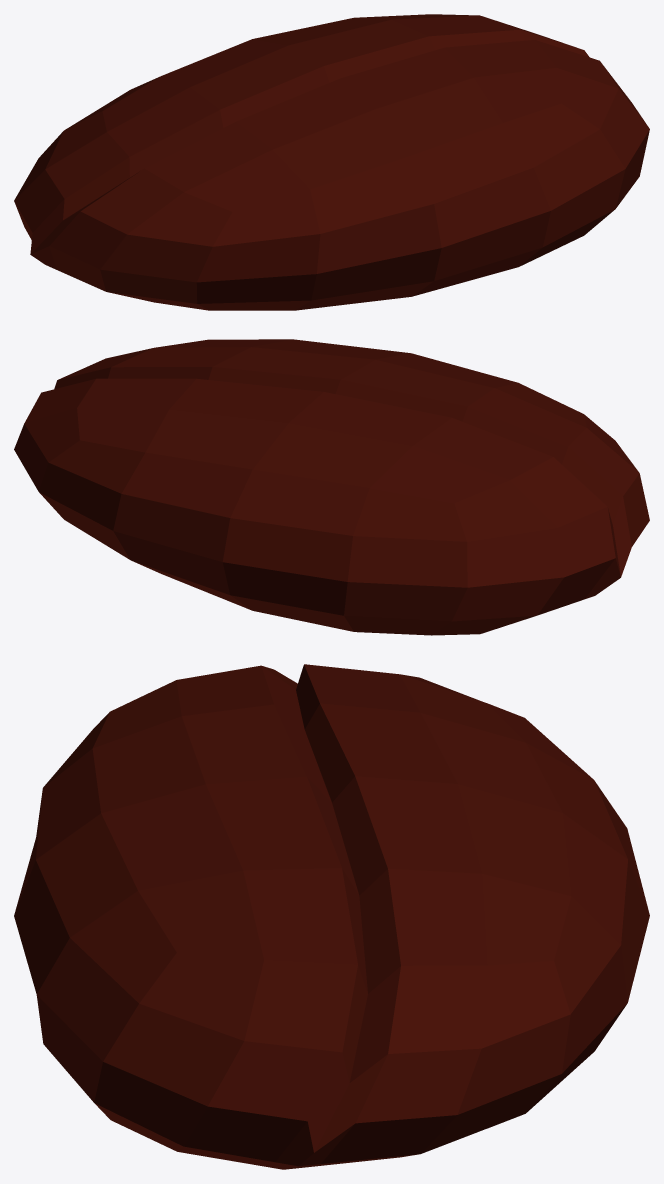
The model's file is CofeeBean.fbx.
The picture shows the model from 3 angles, top to bottom: view 1: azimuth 30°, elevation 25°; view 2: azimuth 150°, elevation 25°; view 3: azimuth 270°, elevation 25°; orthographic projection. The views are drawn at different scales.
Parts seen in each view (by area): view 1: Coffee Bean; view 2: Coffee Bean; view 3: Coffee Bean.
Boxes of the visible parts, bbox=[...] form: Coffee Bean: bbox=[14, 14, 649, 310]; Coffee Bean: bbox=[14, 339, 649, 635]; Coffee Bean: bbox=[14, 664, 649, 1169].
Bounding box in the file's own units: 61.03 × 19.1 × 39.19.
